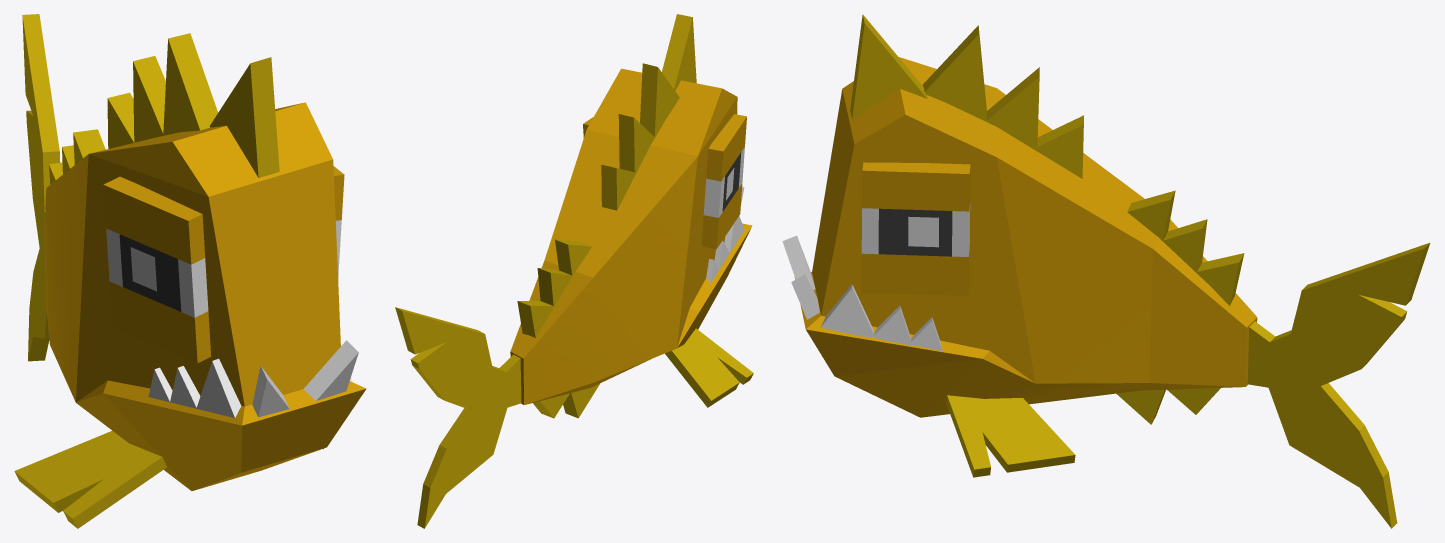
Rendered from frame_02.fbx.
The picture shows the model from 3 angles, left to right: view 1: azimuth 30°, elevation 25°; view 2: azimuth 150°, elevation 25°; view 3: azimuth 270°, elevation 25°; orthographic projection. The views are drawn at different scales.
Parts seen in each view (by area): view 1: Cube.000; view 2: Cube.000; view 3: Cube.000.
Boxes of the visible parts, left/top/right/bottom form: Cube.000: left=14, top=14, right=366, bottom=528; Cube.000: left=395, top=14, right=753, bottom=528; Cube.000: left=782, top=14, right=1430, bottom=528.
Bounding box in the file's own units: 1.5 × 2.83 × 3.52.
